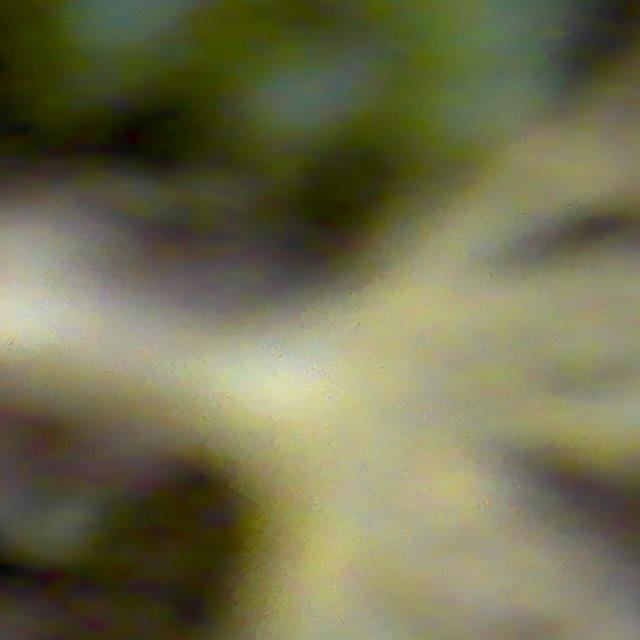SeaGrape: (0, 0, 176, 126), (232, 28, 365, 156)
